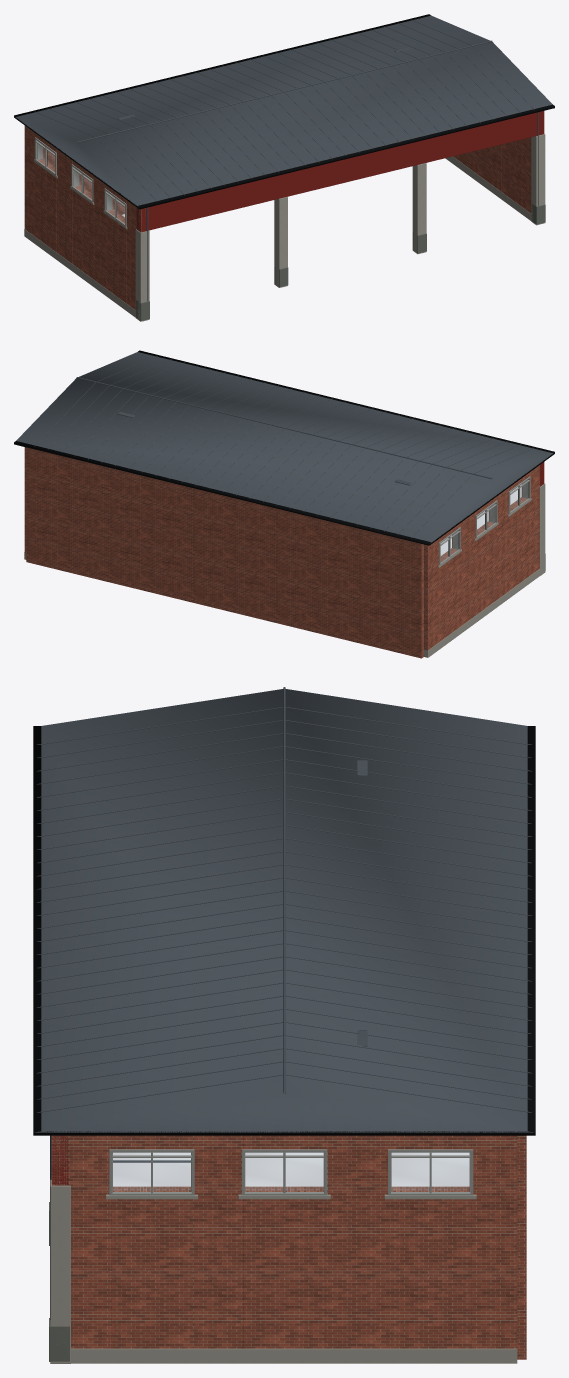
File: kazerne_shell.glb
3 renders of one model, top to bottom at view 1: azimuth 30°, elevation 25°; view 2: azimuth 150°, elevation 25°; view 3: azimuth 270°, elevation 25°, orthographic. The views are drawn at different scales.
Parts seen in each view (by area): view 1: KazerneRoofSurface, KazerneFacadeSurface, GarageMechanismSurface; view 2: KazerneFacadeSurface, KazerneRoofSurface; view 3: KazerneRoofSurface, KazerneFacadeSurface, GarageMechanismSurface.
Boxes of the visible parts, left/top/right/bottom form: KazerneRoofSurface: left=14, top=14, right=554, bottom=209; KazerneFacadeSurface: left=24, top=111, right=545, bottom=321; GarageMechanismSurface: left=136, top=204, right=545, bottom=320; KazerneFacadeSurface: left=24, top=447, right=545, bottom=658; KazerneRoofSurface: left=14, top=350, right=554, bottom=545; KazerneRoofSurface: left=33, top=687, right=535, bottom=1135; KazerneFacadeSurface: left=50, top=1135, right=526, bottom=1363; GarageMechanismSurface: left=49, top=1160, right=190, bottom=1361.
Size of the model in its own units: 21 by 6.69 by 11.
Materials: 6 (5 with a texture image).
